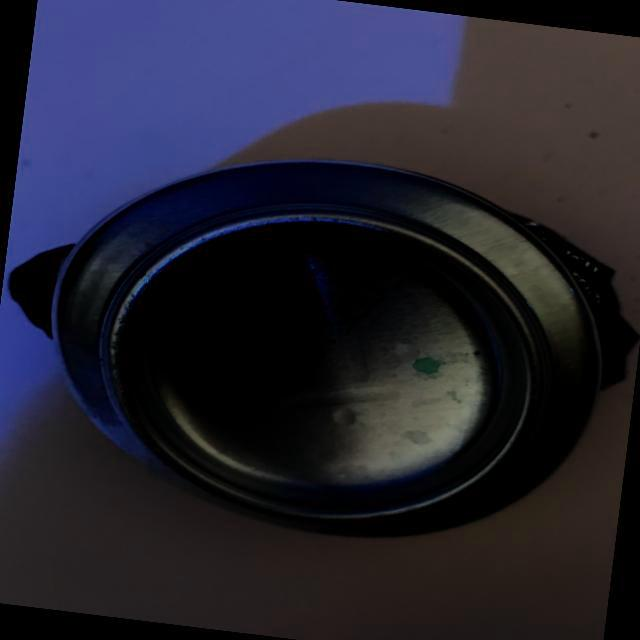metal: (0, 109, 640, 578)
